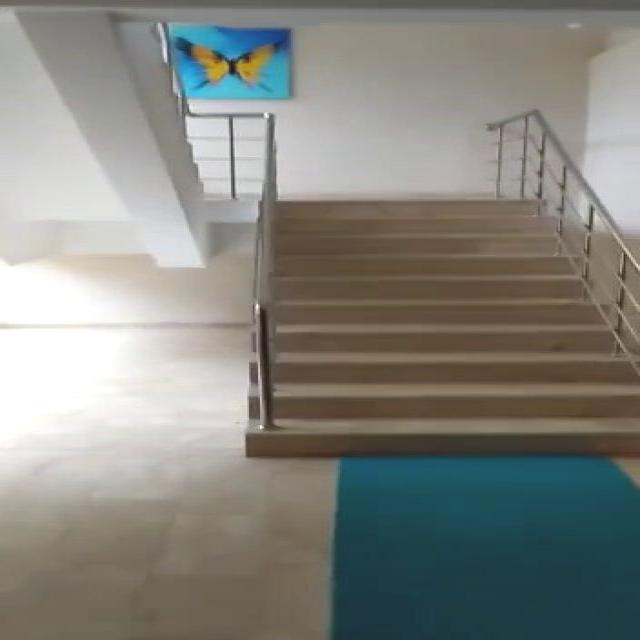stair: (241, 195, 640, 458)
